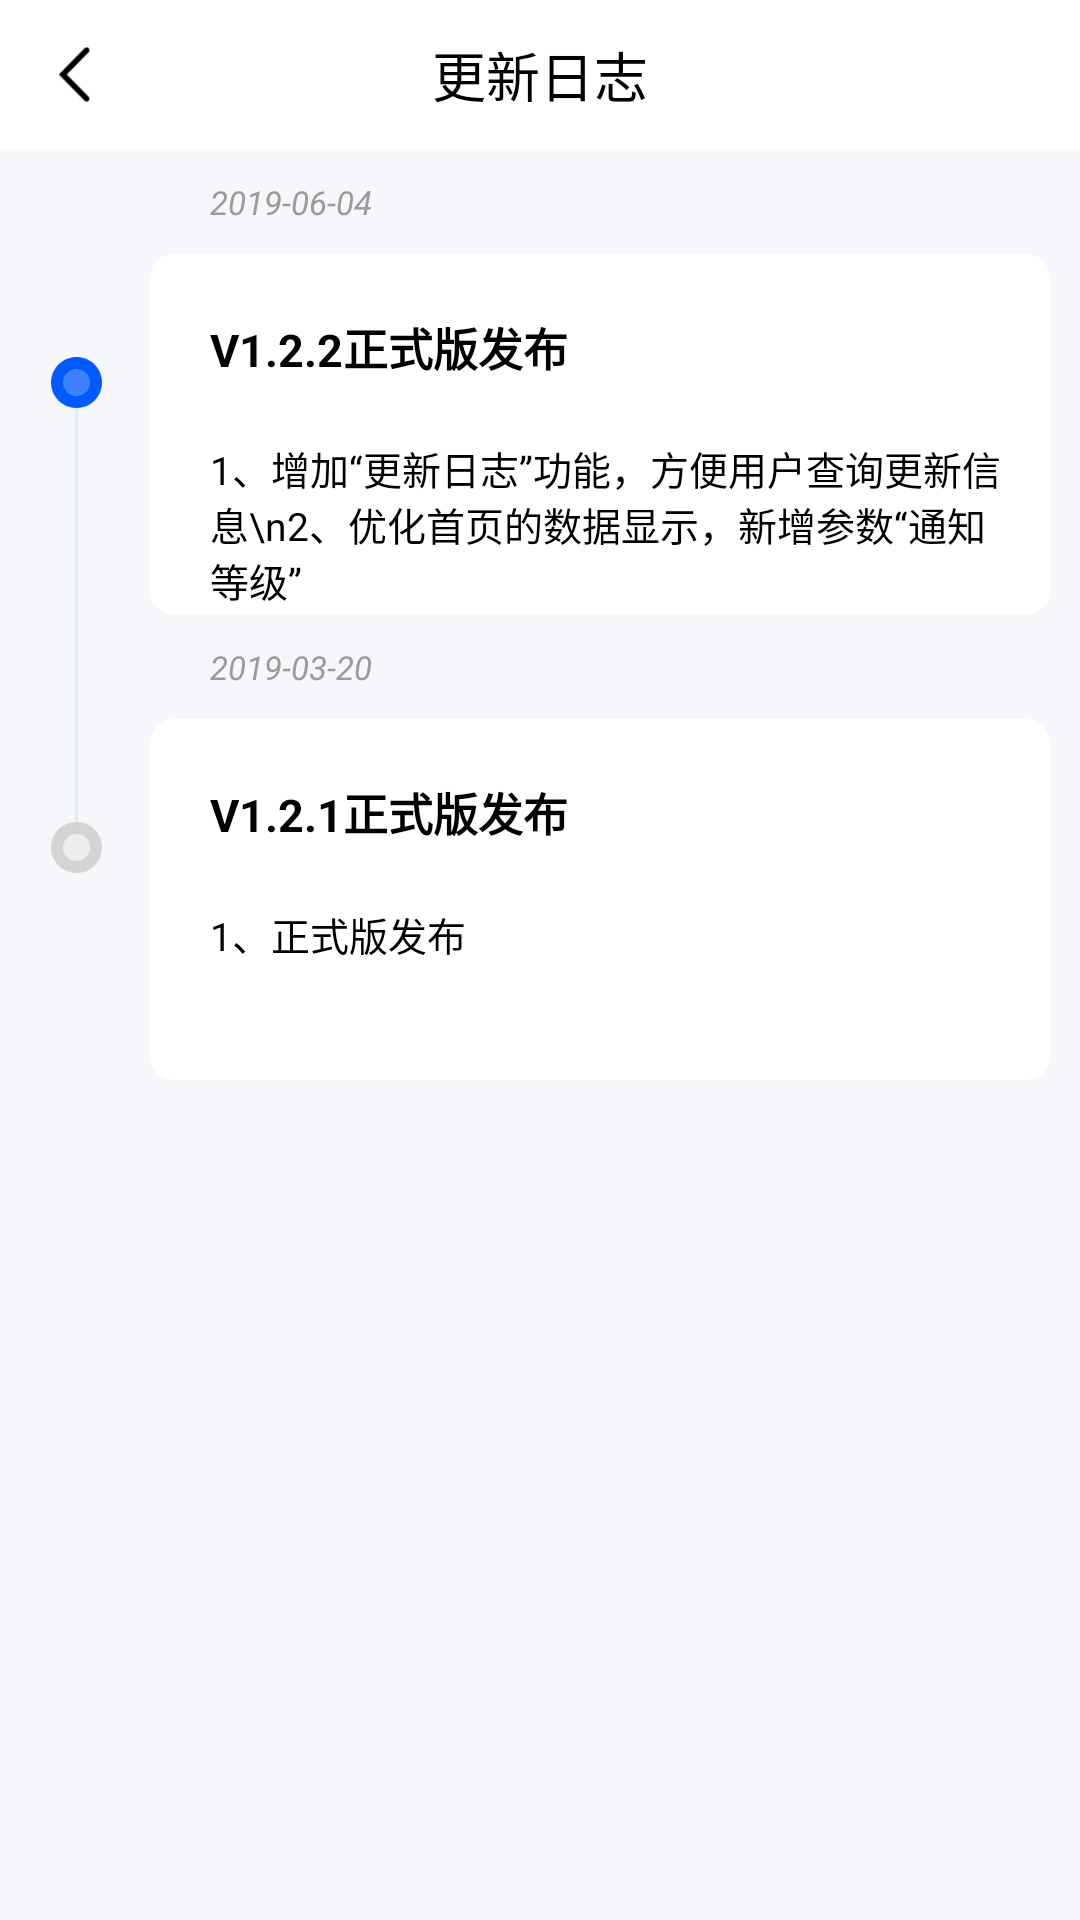

Screen size 1080×1920. Icon name, then its box in pixels as (x1, y1, x2, y2):
re out: (59, 47, 90, 102)
